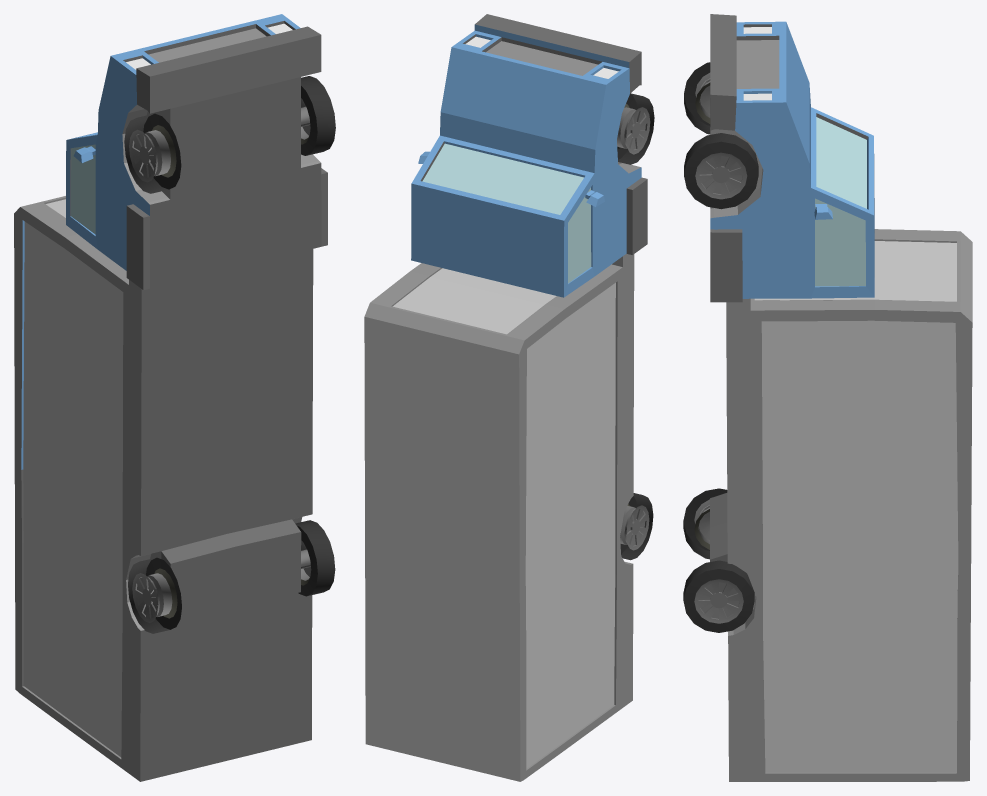
File: low_poly_truck.fbx
3 views of the same model, side by side, from view 1: azimuth 30°, elevation 25°; view 2: azimuth 150°, elevation 25°; view 3: azimuth 270°, elevation 25° (orthographic). The views are drawn at different scales.
Parts seen in each view (by area): view 1: imagetostl_mesh11, imagetostl_mesh17, imagetostl_mesh16, imagetostl_mesh14, imagetostl_mesh3, imagetostl_mesh12, imagetostl_mesh22, imagetostl_mesh28, imagetostl_mesh20, imagetostl_mesh26, imagetostl_mesh25, imagetostl_mesh32 (+3 smaller); view 2: imagetostl_mesh17, imagetostl_mesh14, imagetostl_mesh16, imagetostl_mesh20, imagetostl_mesh12, imagetostl_mesh26, imagetostl_mesh32, imagetostl_mesh25, imagetostl_mesh31; view 3: imagetostl_mesh17, imagetostl_mesh16, imagetostl_mesh14, imagetostl_mesh20, imagetostl_mesh12, imagetostl_mesh22, imagetostl_mesh28, imagetostl_mesh23, imagetostl_mesh29, imagetostl_mesh11, imagetostl_mesh31, imagetostl_mesh25 (+1 smaller).
Boxes of the visible parts, box(x1,y1,x2,y2) form: imagetostl_mesh11: box(140, 77, 321, 781); imagetostl_mesh17: box(23, 199, 123, 757); imagetostl_mesh16: box(14, 28, 320, 781); imagetostl_mesh14: box(21, 14, 300, 469); imagetostl_mesh3: box(150, 35, 321, 113); imagetostl_mesh12: box(126, 26, 327, 289); imagetostl_mesh22: box(301, 76, 335, 155); imagetostl_mesh28: box(295, 520, 335, 596); imagetostl_mesh20: box(71, 144, 95, 234); imagetostl_mesh26: box(129, 129, 170, 182); imagetostl_mesh25: box(124, 113, 181, 193); imagetostl_mesh32: box(132, 573, 172, 622); imagetostl_mesh17: box(364, 268, 615, 781); imagetostl_mesh14: box(411, 24, 641, 297); imagetostl_mesh16: box(364, 41, 640, 781); imagetostl_mesh20: box(422, 143, 591, 283); imagetostl_mesh12: box(475, 14, 647, 254); imagetostl_mesh26: box(617, 107, 650, 154); imagetostl_mesh32: box(620, 505, 649, 550); imagetostl_mesh25: box(617, 93, 654, 164); imagetostl_mesh31: box(620, 493, 653, 560); imagetostl_mesh17: box(754, 241, 958, 772); imagetostl_mesh16: box(710, 40, 972, 781); imagetostl_mesh14: box(710, 21, 874, 298); imagetostl_mesh20: box(815, 117, 866, 286); imagetostl_mesh12: box(710, 14, 742, 302); imagetostl_mesh22: box(684, 133, 758, 209); imagetostl_mesh28: box(683, 560, 754, 632); imagetostl_mesh23: box(695, 152, 747, 199); imagetostl_mesh29: box(694, 579, 743, 623); imagetostl_mesh11: box(710, 98, 727, 561); imagetostl_mesh31: box(683, 488, 727, 559); imagetostl_mesh25: box(684, 62, 710, 134).
Size of the model in its own units: 131 by 448 by 171.
